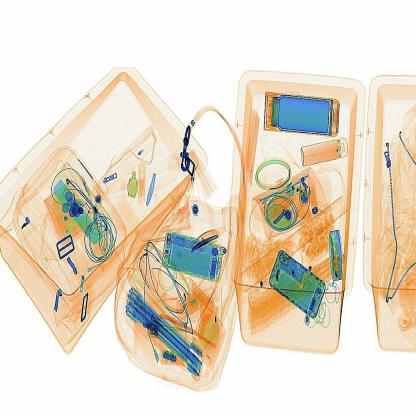pliers: (189, 232, 228, 254)
